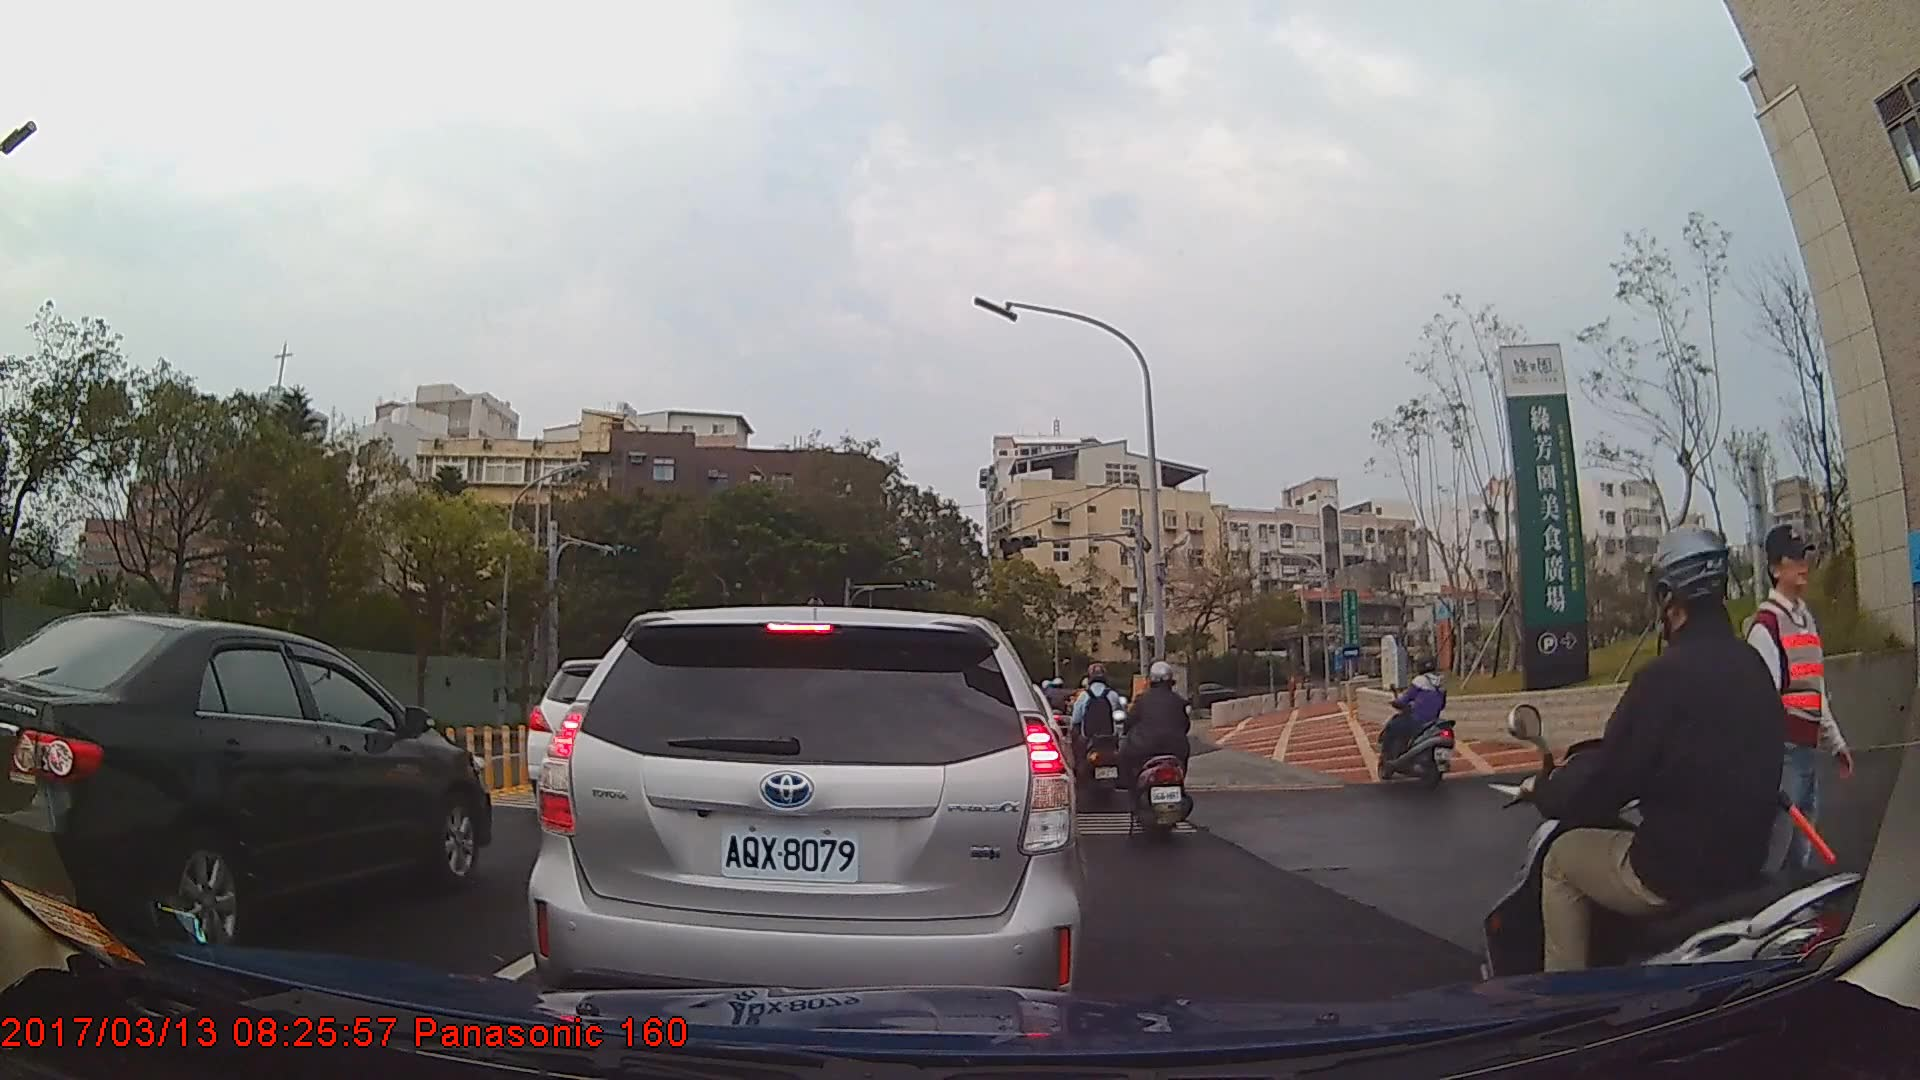pedestrian: (1745, 524, 1862, 968)
rider: (1471, 524, 1879, 1077), (1118, 659, 1196, 840), (1374, 652, 1460, 790), (1069, 660, 1129, 810)
vehicle: (527, 603, 1080, 1033), (0, 610, 492, 954), (1168, 679, 1236, 713)
